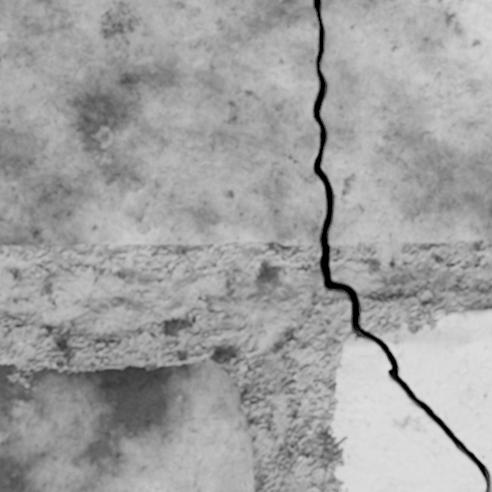brick: (0, 359, 255, 491), (21, 369, 27, 374)
broken_brick: (0, 0, 325, 245), (321, 0, 491, 244), (331, 333, 484, 491), (374, 307, 491, 475)
crack: (313, 0, 491, 491)
